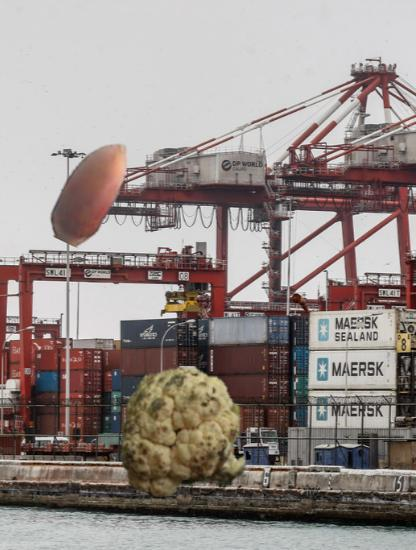Cauliflower: (117, 366, 251, 500)
Hazelnut: (32, 132, 149, 249)
